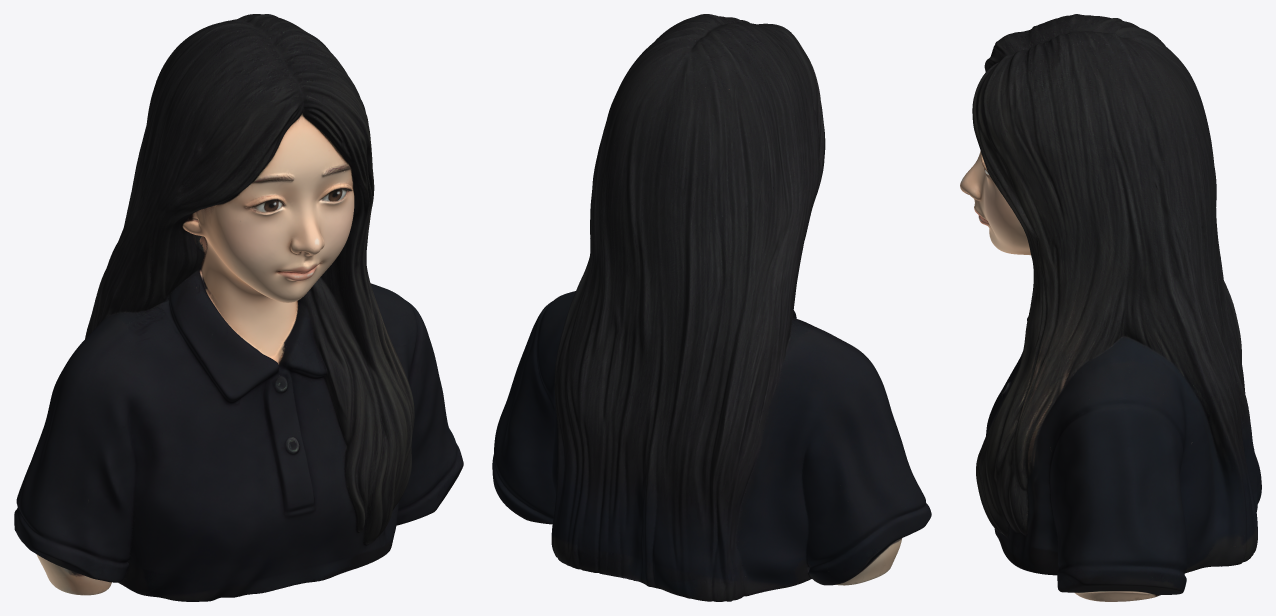
3 views of the same model, side by side, from view 1: azimuth 30°, elevation 25°; view 2: azimuth 150°, elevation 25°; view 3: azimuth 270°, elevation 25° (orthographic). The views are drawn at different scales.
Bounding box in the file's own units: 1.64 × 1.9 × 1.04.
Materials: 1 (1 with a texture image).
